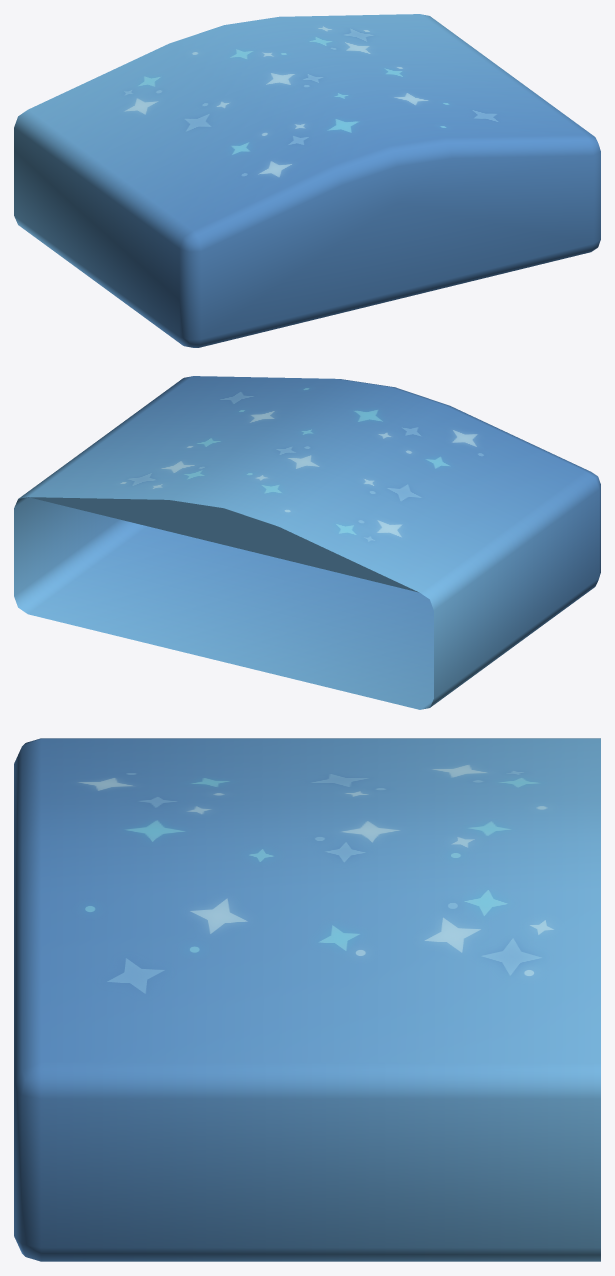
File: bedsheetBlue.fbx
3 views of the same model, one above another, from view 1: azimuth 30°, elevation 25°; view 2: azimuth 150°, elevation 25°; view 3: azimuth 270°, elevation 25° (orthographic). The views are drawn at different scales.
Parts seen in each view (by area): view 1: bed_blue; view 2: bed_blue; view 3: bed_blue.
Part boxes in pixels (x1,y1,x2,y2): bed_blue: (14,14,600,347); bed_blue: (14,376,600,709); bed_blue: (14,738,600,1261).
Bounding box in the file's own units: 150 × 52.53 × 107.
1 material, 1 textured.
